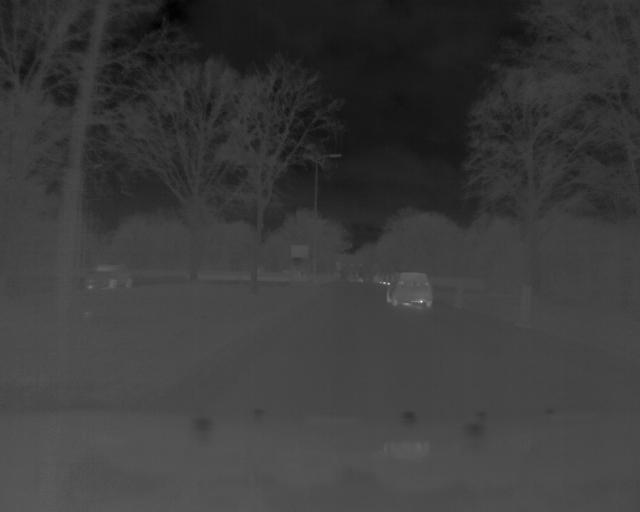car: (384, 268, 436, 309), (83, 260, 139, 293)
